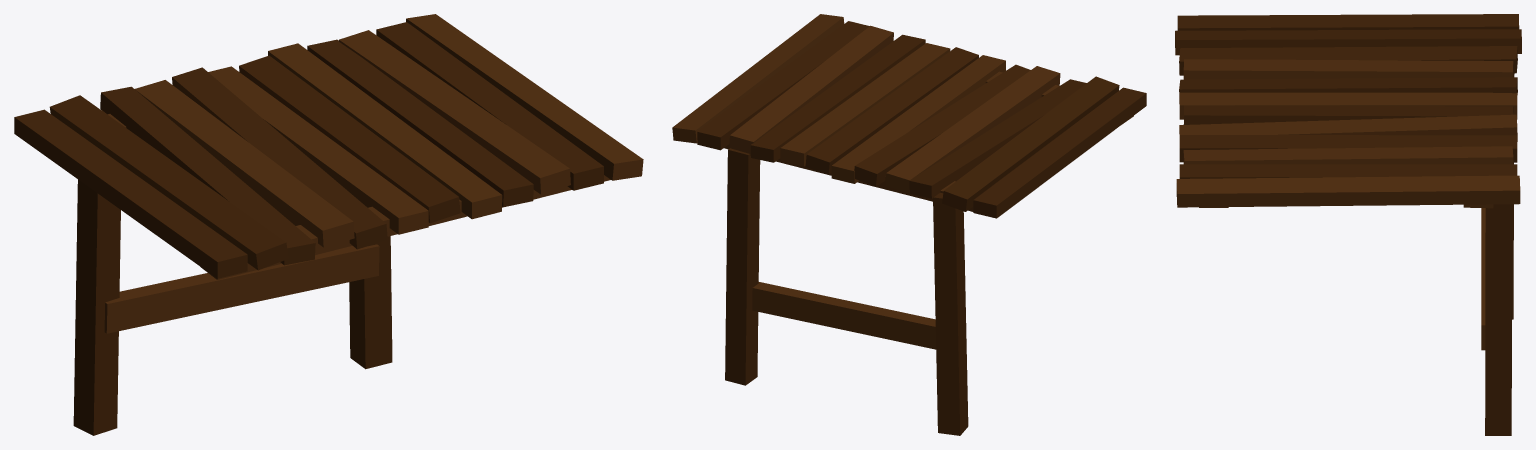
Rendered from obj_Scaffolding_3.fbx.
3 views of the same model, side by side, from view 1: azimuth 30°, elevation 25°; view 2: azimuth 150°, elevation 25°; view 3: azimuth 270°, elevation 25° (orthographic). The views are drawn at different scales.
Parts seen in each view (by area): view 1: geo_Scaffolding_3; view 2: geo_Scaffolding_3; view 3: geo_Scaffolding_3.
Part boxes in pixels (left/top/right/bottom): geo_Scaffolding_3: left=14, top=14, right=643, bottom=435; geo_Scaffolding_3: left=672, top=14, right=1146, bottom=435; geo_Scaffolding_3: left=1175, top=14, right=1521, bottom=435.
Bounding box in the file's own units: 77.55 × 63.39 × 55.94.
